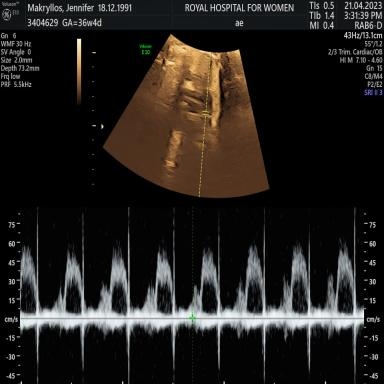Ultrasound-Waves: (26, 206, 360, 384)
